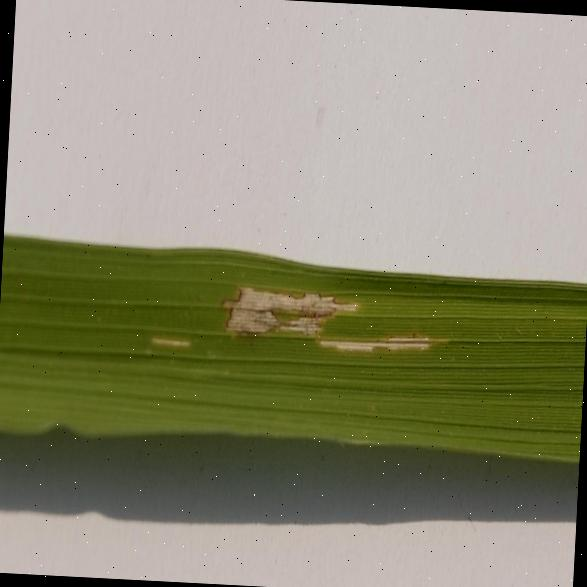Bacteria_Leaf_Blight: (137, 268, 492, 406)
